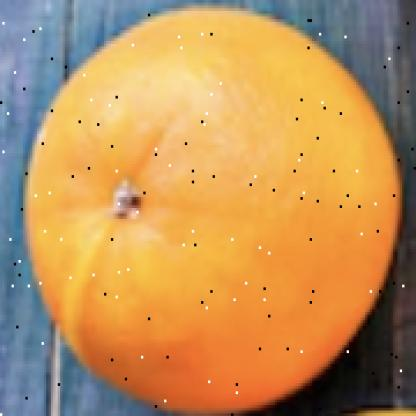fresh: (27, 7, 401, 416)
